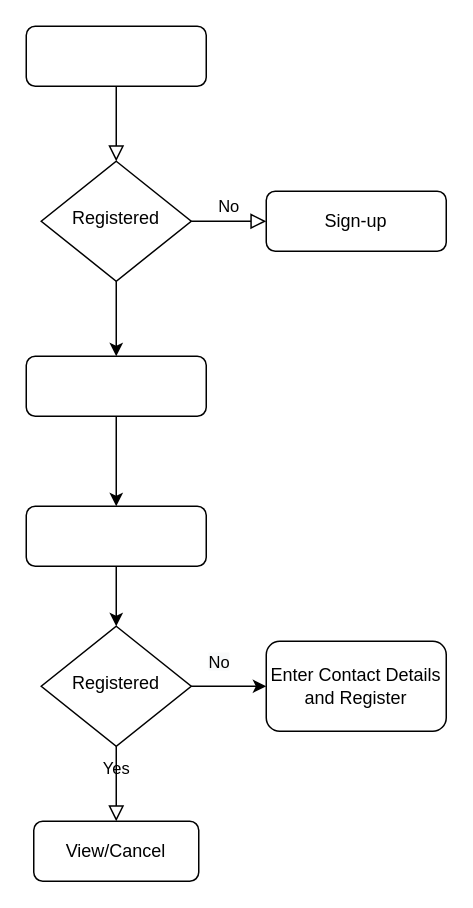
This 473x908 diagram has some shape labels left out. Here are the shapes that lost their labels. From the top down, the centre of each, then its label:
pixel 115 55: Student
pixel 115 385: Login
pixel 115 535: Events
